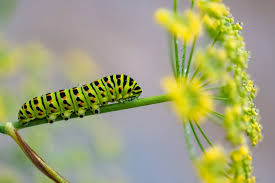Caterpillar: (18, 73, 142, 124)
